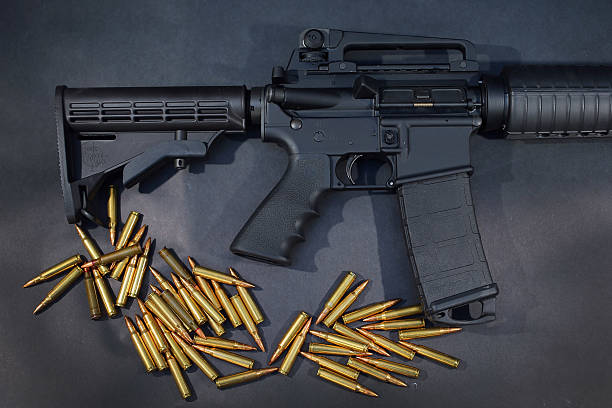rifle: (55, 24, 612, 331)
